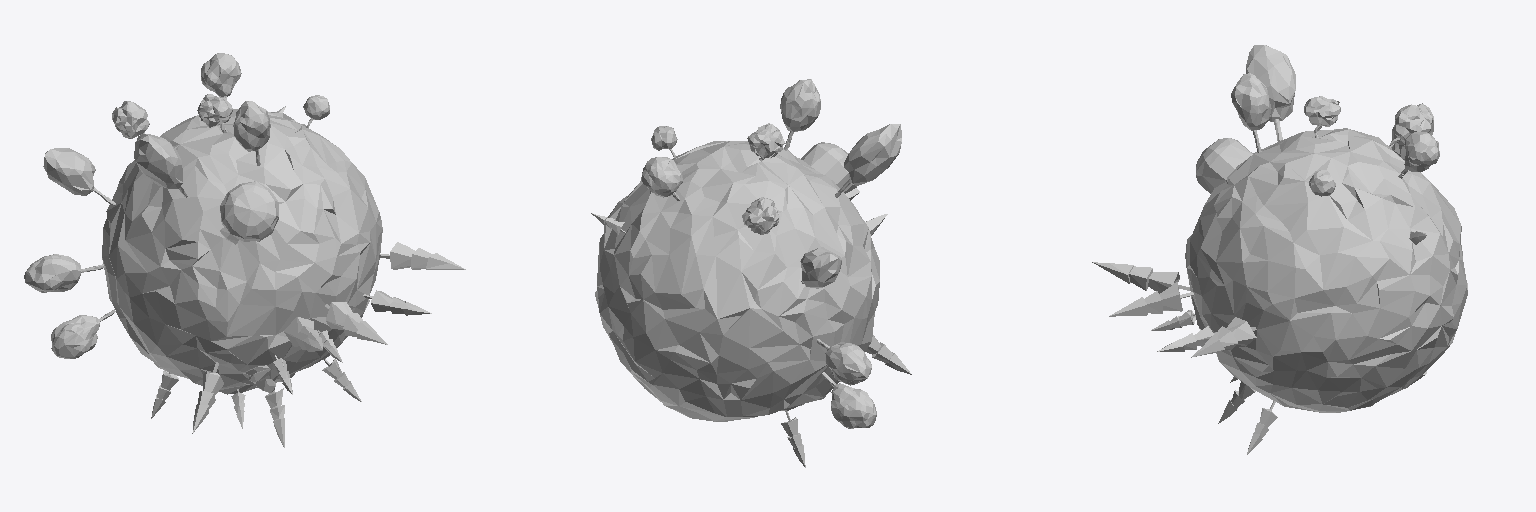
File: Planet Orange.obj
3 views of the same model, side by side, from view 1: azimuth 30°, elevation 25°; view 2: azimuth 150°, elevation 25°; view 3: azimuth 270°, elevation 25° (orthographic).
Parts seen in each view (by area): view 1: GeoSphere013_Mesh.007; view 2: GeoSphere013_Mesh.007; view 3: GeoSphere013_Mesh.007.
Boxes of the visible parts, x1,y1,x2,y2 form: GeoSphere013_Mesh.007: [24, 53, 465, 447]; GeoSphere013_Mesh.007: [591, 79, 911, 467]; GeoSphere013_Mesh.007: [1092, 45, 1467, 454].
Bounding box in the file's own units: 18.51 × 18.28 × 18.23.